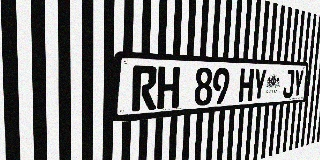8: (194, 67, 214, 106)
9: (212, 68, 230, 105)
H: (157, 66, 180, 109), (238, 68, 254, 102)
J: (282, 69, 295, 98)
R: (132, 66, 157, 112)
Y: (252, 69, 267, 101), (293, 70, 304, 97)
